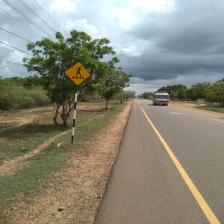yellowboard: (64, 62, 91, 86)
